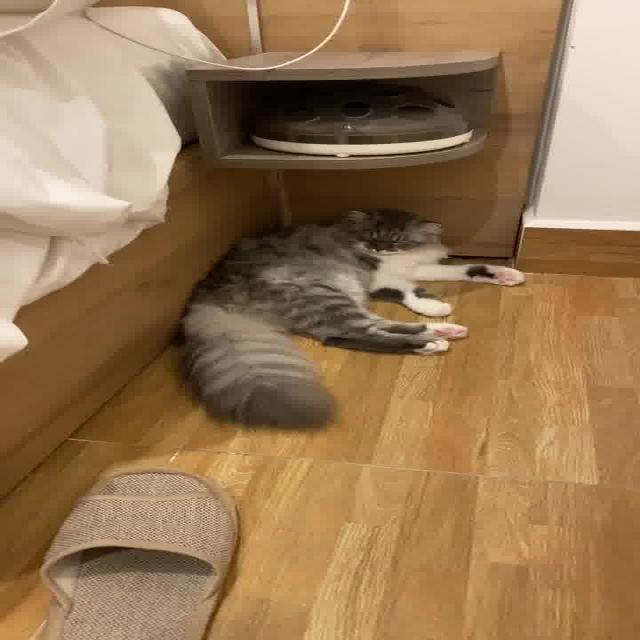cat: (156, 184, 536, 438)
